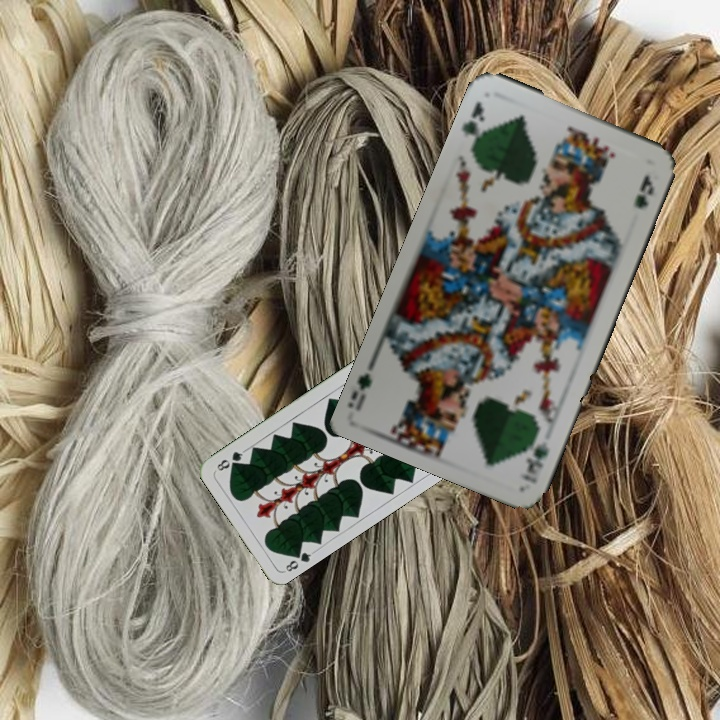G8: (280, 545, 317, 575)
GK: (516, 426, 552, 487), (458, 97, 488, 148)
